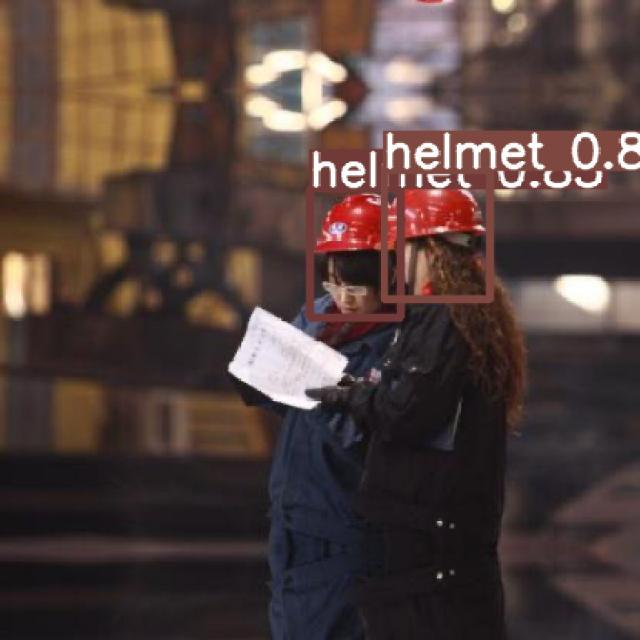Helmet: (386, 185, 486, 248), (313, 192, 393, 254)
